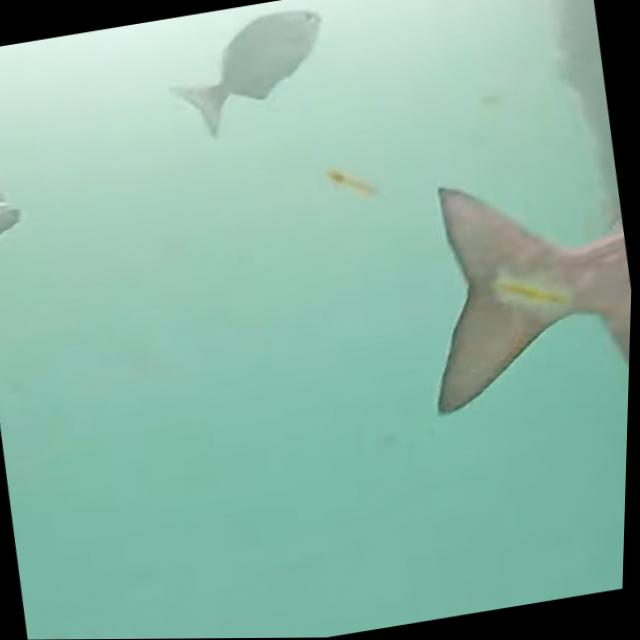fish: (391, 133, 637, 503), (152, 0, 347, 151), (0, 154, 38, 275)
